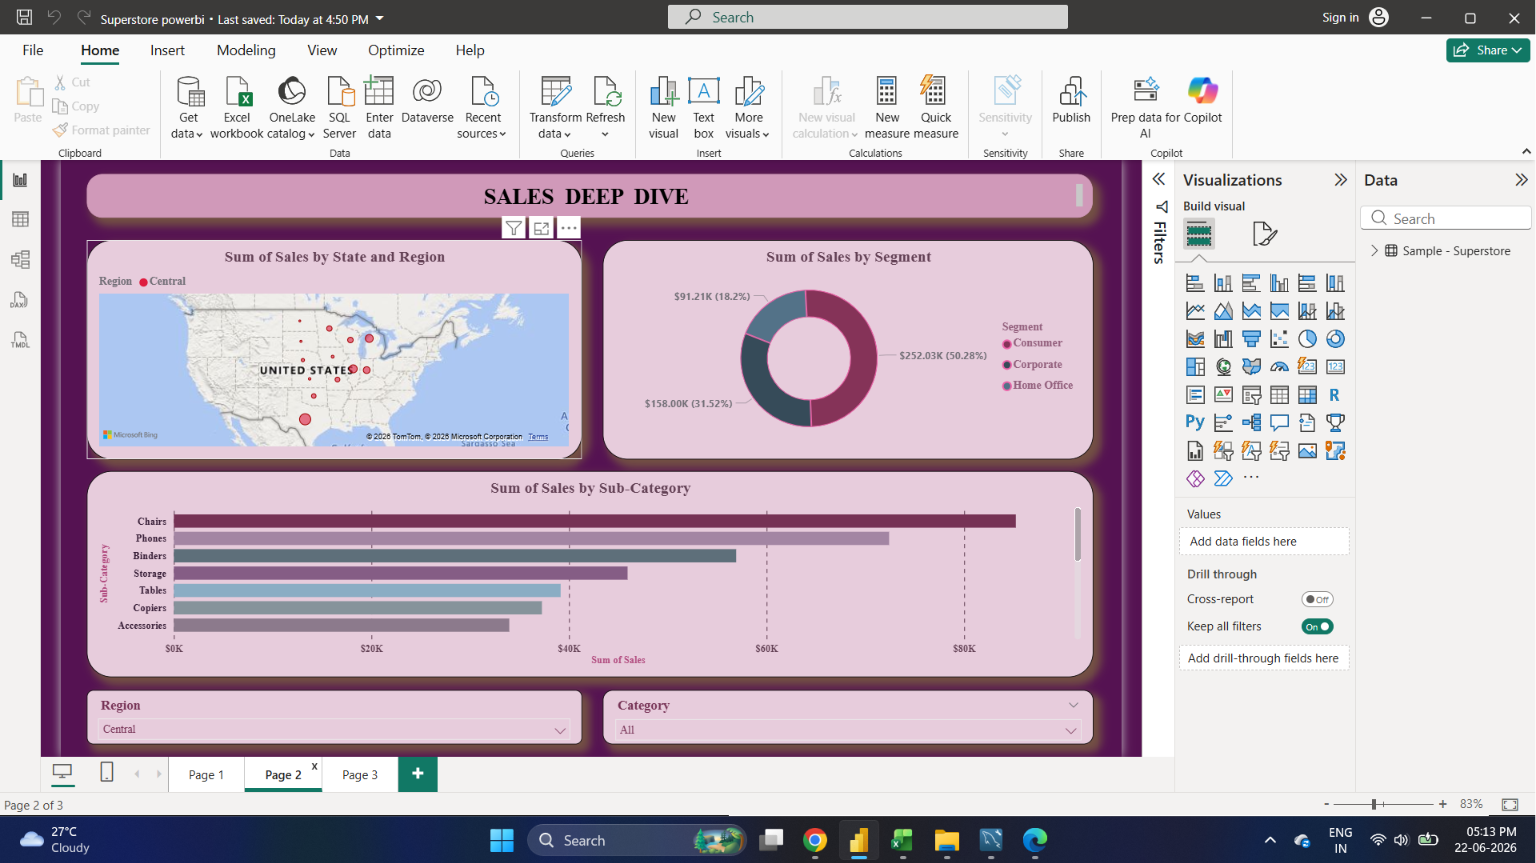

This screenshot's page, from the dashboard's own definition file:
{"tool":"powerbi","page":{"name":"Page 2","canvas":[1280,720],"ordinal":1},"visuals":[{"type":"textbox","box":[31.9,16.7,1213.9,52.8],"z":0},{"type":"map","fields":{"Category":["Sample - Superstore.State"],"Series":["Sample - Superstore.Region"],"Size":["Sum(Sample - Superstore.Sales)"]},"box":[31.6,96.1,597.4,264.5],"z":1000},{"type":"donutChart","fields":{"Y":["Sum(Sample - Superstore.Sales)"],"Category":["Sample - Superstore.Segment"]},"box":[653.9,96.1,592.1,264.5],"z":2000},{"type":"barChart","fields":{"Category":["Sample - Superstore.Sub-Category"],"Y":["Sum(Sample - Superstore.Sales)"]},"box":[31.6,375,1214.5,248.7],"z":3000},{"type":"slicer","fields":{"Values":["Sample - Superstore.Region"]},"box":[31.6,639.5,597.4,65.8],"z":4000},{"type":"slicer","fields":{"Values":["Sample - Superstore.Category"]},"box":[653.9,639.5,592.1,65.8],"z":5000}]}

Visuals, with their boxes on the page's 1280x720 design canvas (x1, y1, x2, y2). These are canvas units, not pixel positions in the 1536x863 screenshot, which may show the page scaled, cropped or inside an application window:
textbox: [x1=32, y1=17, x2=1246, y2=70]
map - Sample - Superstore.State x Sample - Superstore.Region: [x1=32, y1=96, x2=629, y2=361]
donutChart - Sum(Sample - Superstore.Sales) x Sample - Superstore.Segment: [x1=654, y1=96, x2=1246, y2=361]
barChart - Sample - Superstore.Sub-Category x Sum(Sample - Superstore.Sales): [x1=32, y1=375, x2=1246, y2=624]
slicer - Sample - Superstore.Region: [x1=32, y1=640, x2=629, y2=705]
slicer - Sample - Superstore.Category: [x1=654, y1=640, x2=1246, y2=705]
